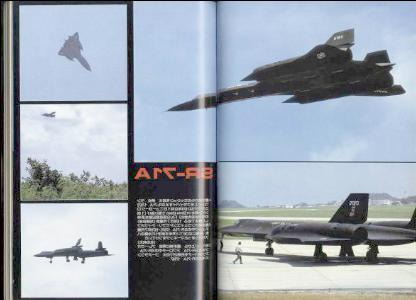Rafale: (158, 27, 406, 112), (217, 191, 415, 265), (30, 237, 116, 263), (57, 31, 91, 72), (40, 110, 57, 118)
